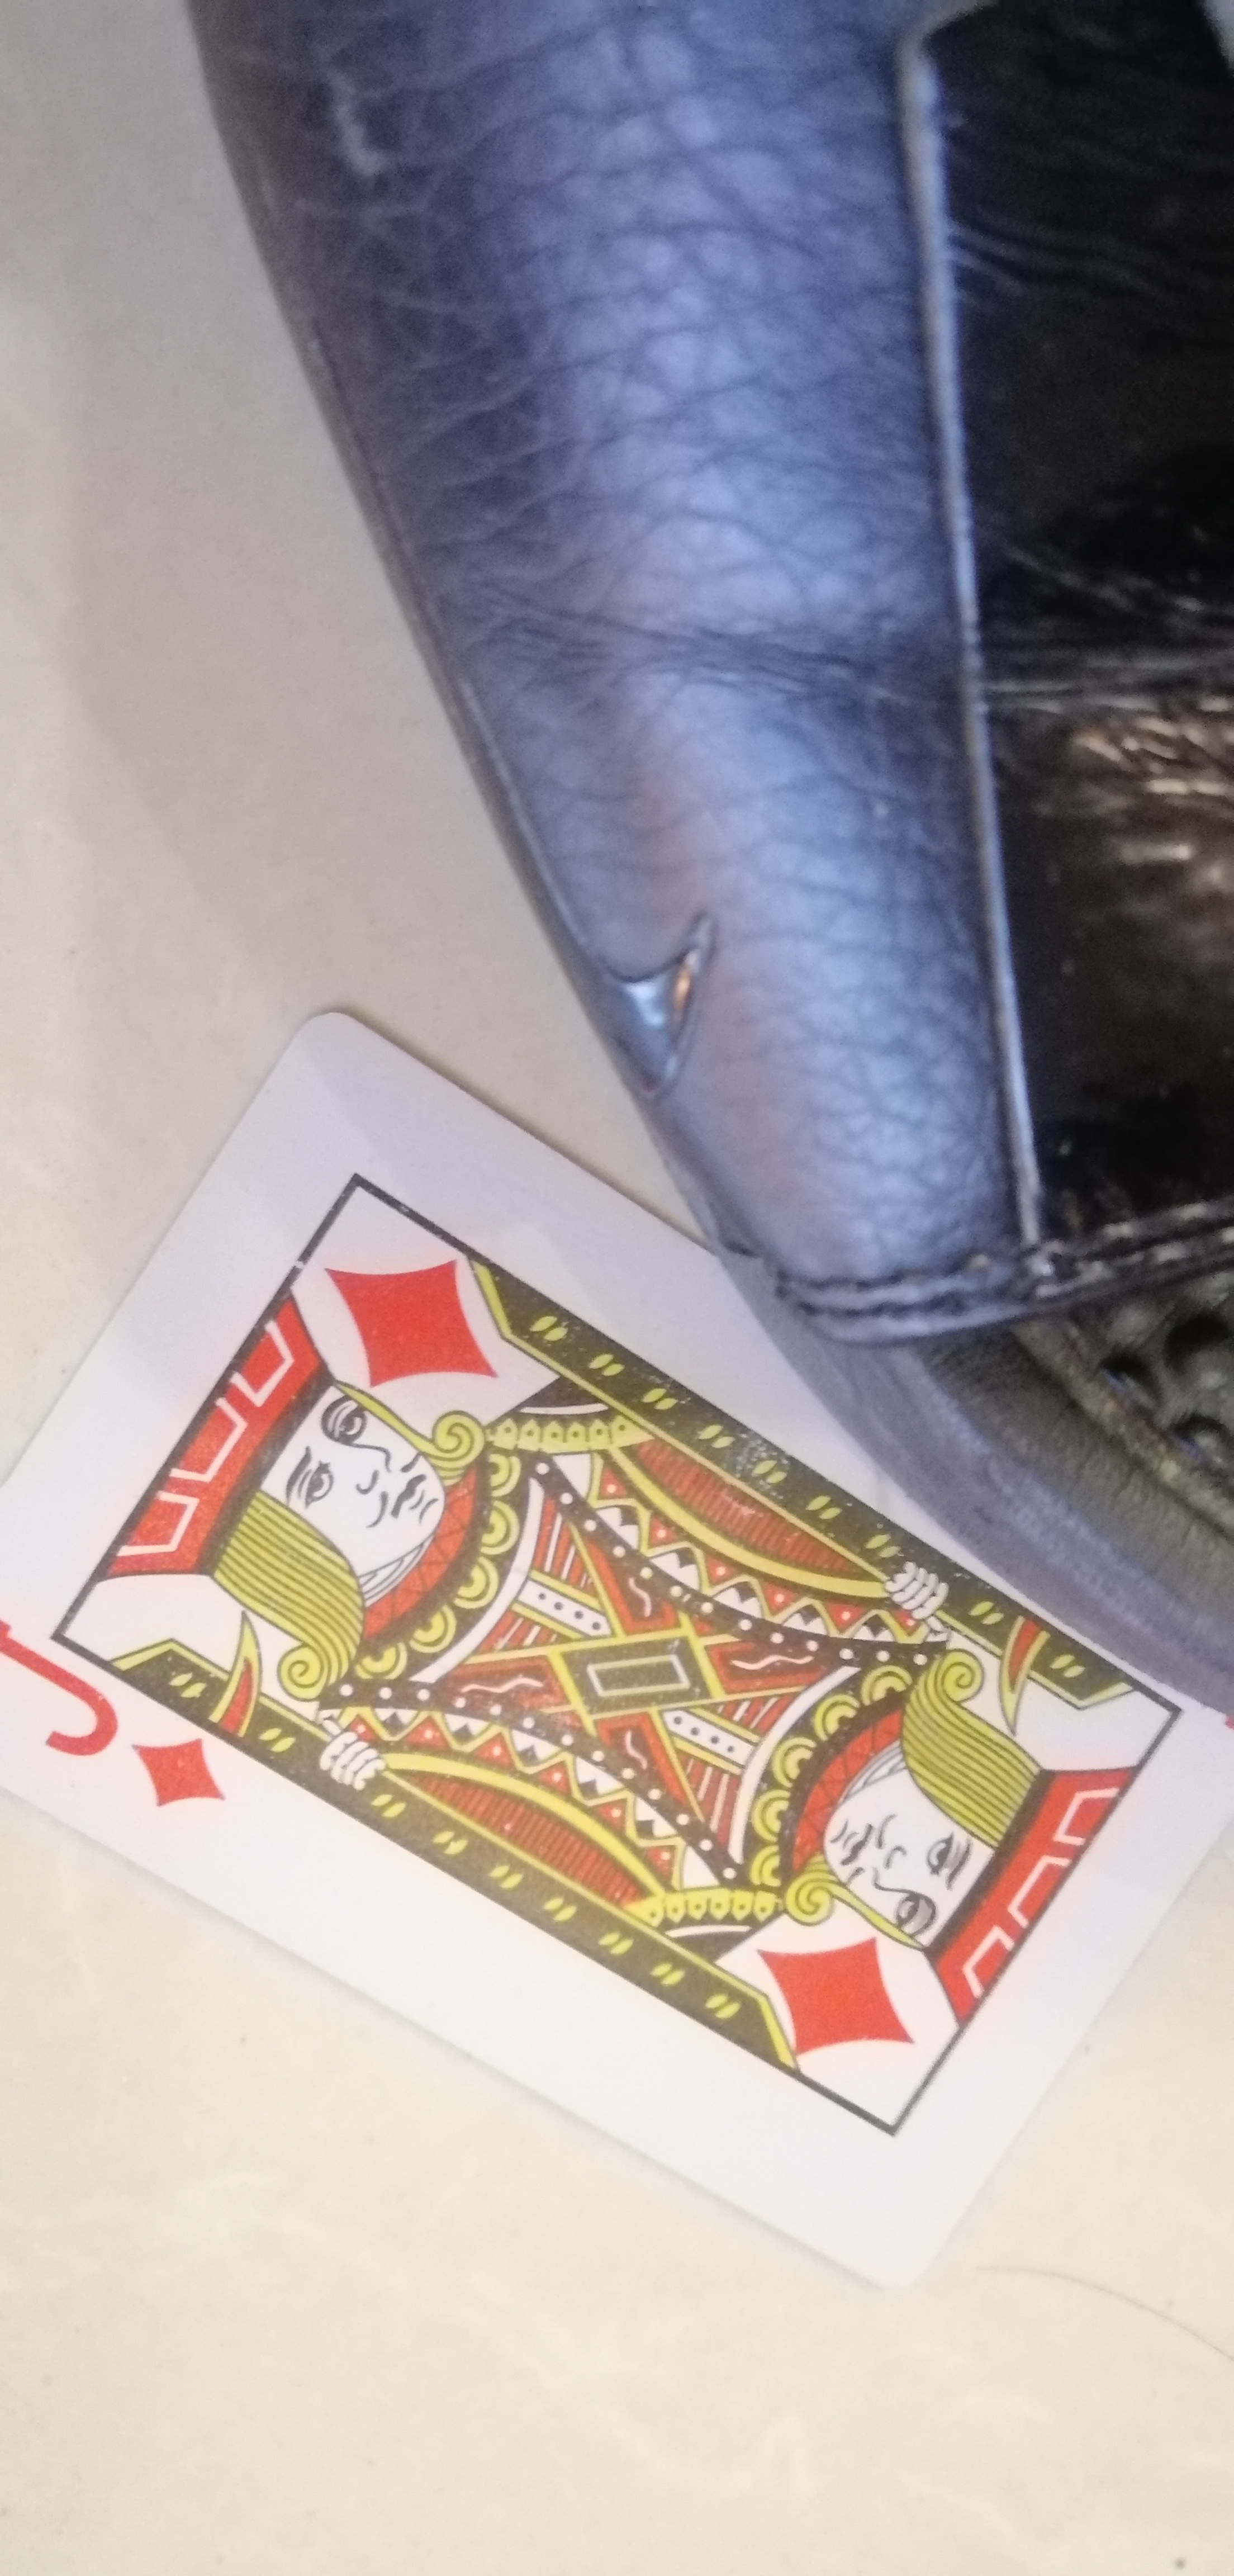jack: (8, 1023, 1234, 2244)
